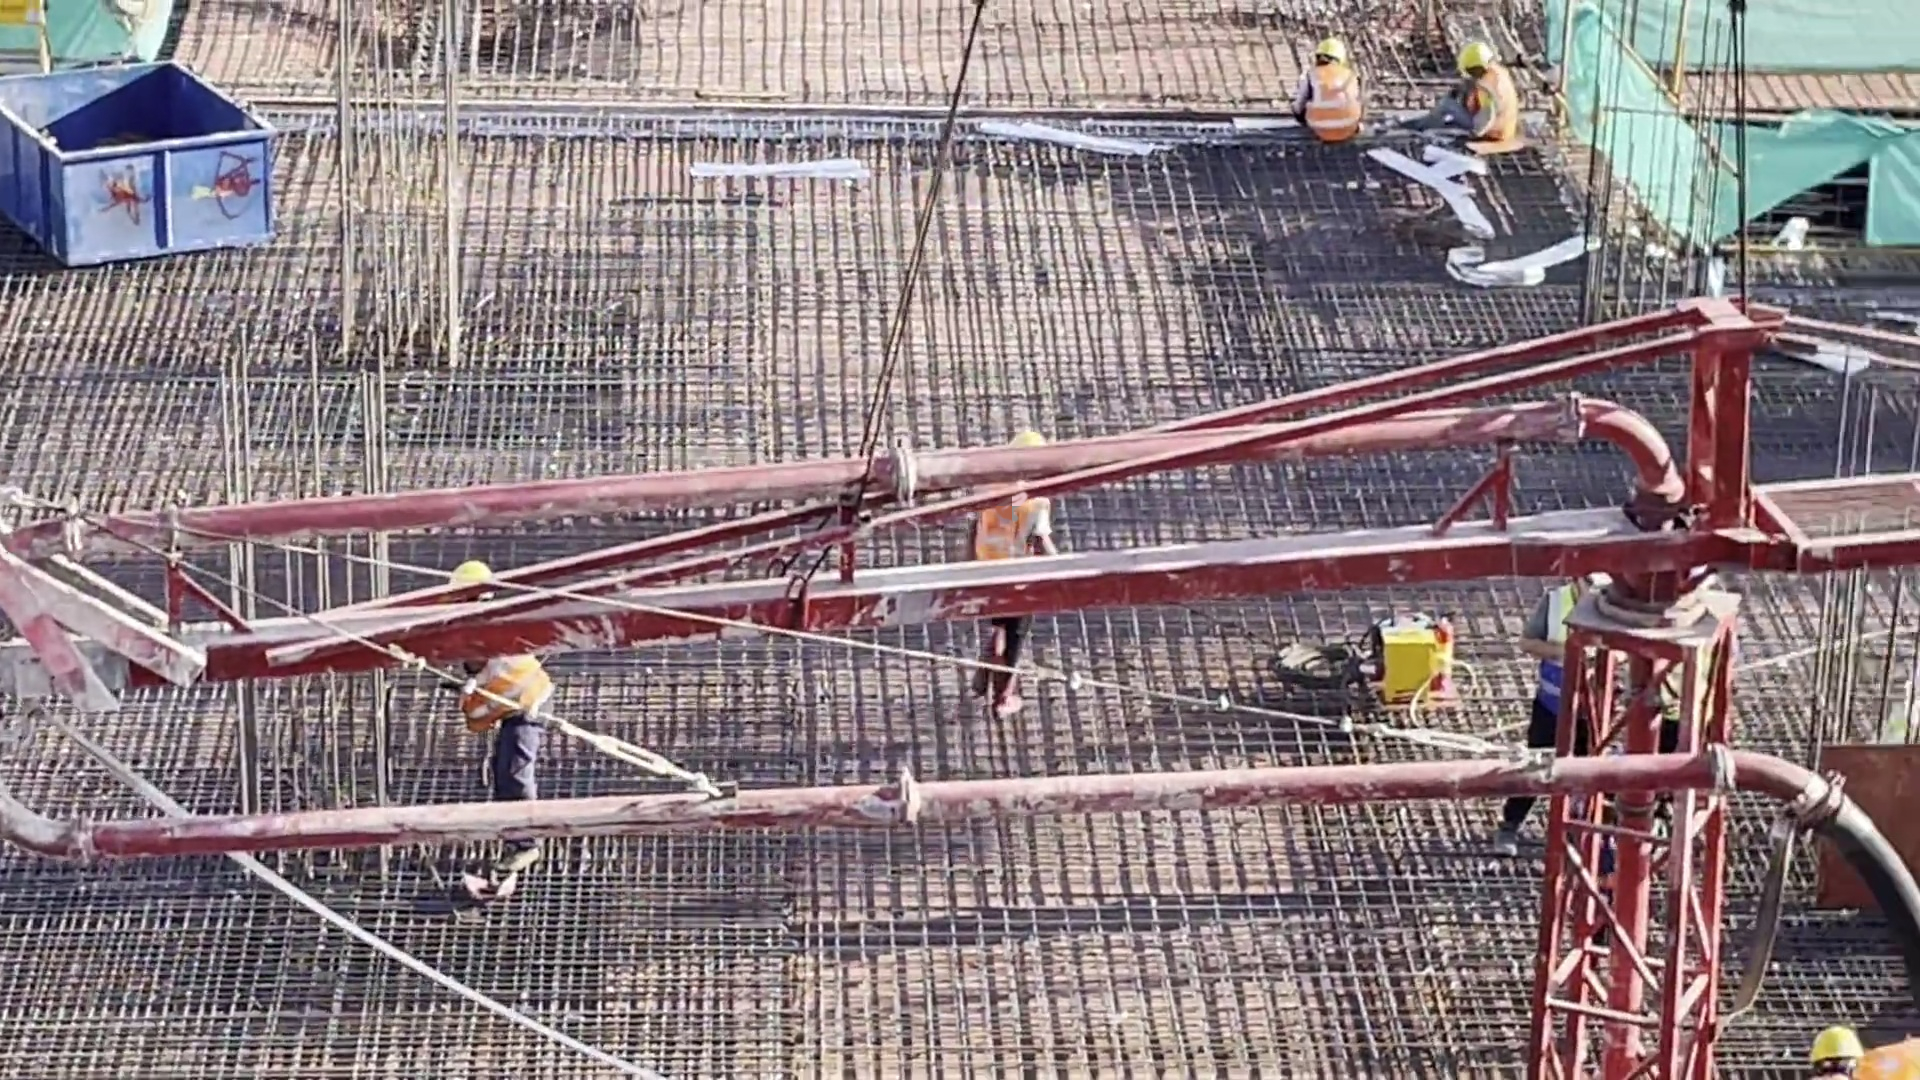helmet: (1801, 1024, 1857, 1064), (1459, 39, 1497, 72), (451, 565, 493, 587), (1319, 40, 1353, 64), (1015, 429, 1045, 452)
person: (425, 571, 562, 868), (1493, 565, 1614, 839), (960, 424, 1040, 732), (1426, 38, 1519, 161), (1293, 48, 1365, 152), (1796, 1012, 1879, 1080)
vest: (449, 664, 567, 733), (972, 504, 1047, 588), (1536, 593, 1573, 720), (1300, 71, 1360, 144), (1468, 79, 1521, 144)
